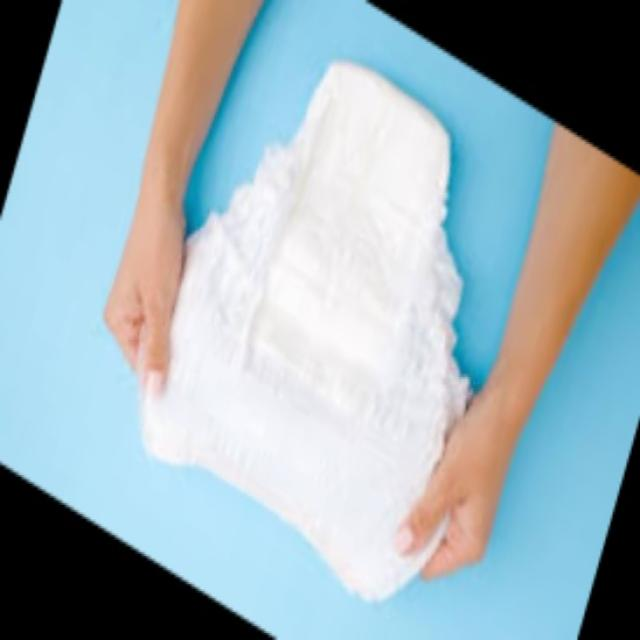B3: (142, 61, 468, 598), (198, 59, 444, 579)
